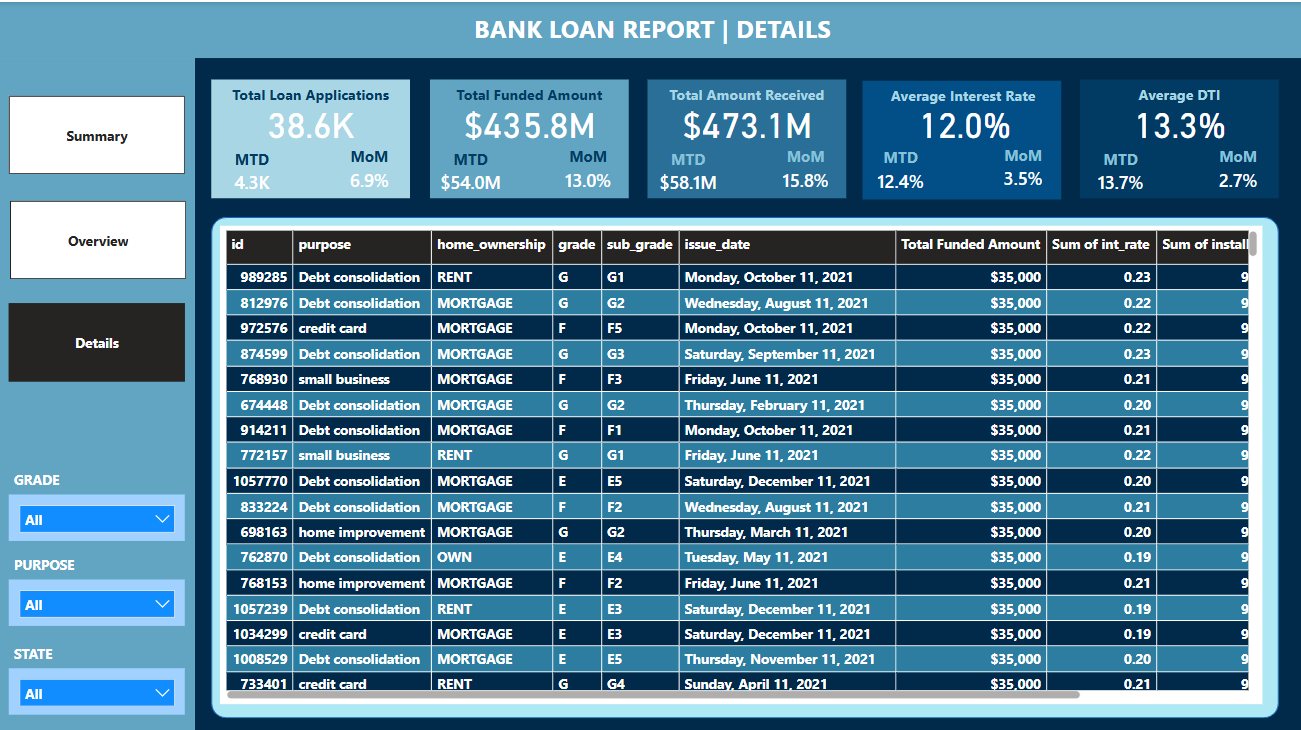

This screenshot's page, from the dashboard's own definition file:
{"tool":"powerbi","page":{"name":"Details","canvas":[1280,720],"ordinal":2},"visuals":[{"type":"shape","box":[207.4,76.1,195.1,116.6],"z":0,"group":"g1"},{"type":"shape","box":[422.1,76.1,195.1,116.6],"z":0,"group":"g2"},{"type":"shape","box":[635.6,76.1,195.1,116.6],"z":0,"group":"g3"},{"type":"shape","box":[1060.1,76.1,195.1,116.6],"z":0,"group":"g5"},{"type":"shape","box":[846.6,77.4,195.1,116.6],"z":0,"group":"g4"},{"type":"shape","box":[207.4,211,1047.9,492],"z":0},{"type":"shape","box":[0,55.2,191.4,665],"z":1000},{"type":"card","fields":{"Values":["financial_loan.Avg Interest Rate"]},"box":[866.4,93.2,162,50.3],"z":1000,"group":"g4"},{"type":"card","fields":{"Values":["financial_loan.Total Loan Applications"]},"box":[224.6,93.3,162,50.3],"z":1000,"group":"g1"},{"type":"card","fields":{"Values":["financial_loan.Total Funded Amount"]},"box":[439.3,93.3,162,50.3],"z":1000,"group":"g2"},{"type":"card","fields":{"Values":["financial_loan.Total Amount Received"]},"box":[652.8,93.3,162,50.3],"z":1000,"group":"g3"},{"type":"card","fields":{"Values":["financial_loan.Average DTI"]},"box":[1077.3,93.3,162,50.3],"z":1000,"group":"g5"},{"type":"shape","box":[0,0,1280.3,55],"z":2000},{"type":"textbox","box":[207.4,76.1,195.1,33.1],"z":2000,"group":"g1"},{"type":"textbox","box":[422.1,76.1,195.1,33.1],"z":2000,"group":"g2"},{"type":"textbox","box":[635.6,76.1,195.1,33.1],"z":2000,"group":"g3"},{"type":"textbox","box":[1060.1,76.1,195.1,33.1],"z":2000,"group":"g5"},{"type":"textbox","box":[848,77.3,195.1,33.1],"z":2000,"group":"g4"},{"type":"textbox","box":[433.1,4.9,414.7,44.2],"z":3000},{"type":"card","title":"MTD","fields":{"Values":["financial_loan.MTD Average Interest Rate"]},"box":[844.6,142,79.8,51.5],"z":3000,"group":"g4"},{"type":"card","title":"MTD","fields":{"Values":["financial_loan.MTD Loan Applications"]},"box":[207.4,143.6,79.8,51.5],"z":3000,"group":"g1"},{"type":"card","title":"MTD","fields":{"Values":["financial_loan.MTD Total Funded Amount"]},"box":[422.1,143.6,79.8,51.5],"z":3000,"group":"g2"},{"type":"card","title":"MTD","fields":{"Values":["financial_loan.MTD Total Amount Received"]},"box":[635.6,143.6,79.8,51.5],"z":3000,"group":"g3"},{"type":"card","title":"MTD","fields":{"Values":["financial_loan.MTD Average DTI"]},"box":[1060.1,143.6,79.8,51.5],"z":3000,"group":"g5"},{"type":"group","id":"g1","title":"Group 1","box":[207.4,76.1,195.1,119],"z":4000},{"type":"card","title":"MoM","fields":{"Values":["financial_loan.MOM Interest Rate"]},"box":[964.6,140.5,79.8,51.5],"z":4000,"group":"g4"},{"type":"card","title":"MoM","fields":{"Values":["financial_loan.MOM Loan Apllications"]},"box":[322.7,141.1,79.8,51.5],"z":4000,"group":"g1"},{"type":"card","title":"MoM","fields":{"Values":["financial_loan.MOM Funded Amount"]},"box":[537.4,141.1,79.8,51.5],"z":4000,"group":"g2"},{"type":"card","title":"MoM","fields":{"Values":["financial_loan.MOM AMount Received"]},"box":[750.9,141.1,79.8,51.5],"z":4000,"group":"g3"},{"type":"card","title":"MoM","fields":{"Values":["financial_loan.MOM Average DTI"]},"box":[1175.4,141.1,79.8,51.5],"z":4000,"group":"g5"},{"type":"group","id":"g2","title":"Group 1","box":[422.1,76.1,195.1,119],"z":5000},{"type":"group","id":"g3","title":"Group 1","box":[635.6,76.1,195.1,119],"z":6000},{"type":"group","id":"g4","title":"Group 1","box":[844.6,77.3,199.7,116.6],"z":7000},{"type":"group","id":"g5","title":"Group 1","box":[1060.1,76.1,195.1,119],"z":8000},{"type":"slicer","fields":{"Values":["financial_loan.address_state"]},"box":[8.6,654,173,45.4],"z":9000},{"type":"textbox","box":[8.6,625.8,100.6,28.2],"z":10000},{"type":"slicer","fields":{"Values":["financial_loan.purpose"]},"box":[8.6,566.9,173,45.4],"z":11000},{"type":"textbox","box":[8.6,455.2,100.6,28.2],"z":12000},{"type":"textbox","box":[8.6,538.7,100.6,28.2],"z":13000},{"type":"slicer","fields":{"Values":["financial_loan.sub_grade"]},"box":[8.6,483.4,173,45.4],"z":14000},{"type":"pageNavigator","box":[8.6,92,173,77.3],"z":17000},{"type":"pageNavigator","box":[8.6,295.7,173,77.3],"z":18000},{"type":"pageNavigator","box":[9.8,195.1,173,77.3],"z":19000},{"type":"tableEx","fields":{"Values":["financial_loan.id","financial_loan.purpose","financial_loan.home_ownership","financial_loan.grade","financial_loan.sub_grade","financial_loan.issue_date","financial_loan.Total Funded Amount","Sum(financial_loan.int_rate)","Sum(financial_loan.installment)","financial_loan.Total Amount Received"]},"box":[216,219.6,1023.3,469.9],"z":20000}]}

Visuals, with their boxes in screenshot pixels (x1, y1, x2, y2), scaled from the page's 1280x720 canvas onto the 1301x730 screenshot:
shape: locate(211, 77, 409, 195)
shape: locate(429, 77, 627, 195)
shape: locate(646, 77, 844, 195)
shape: locate(1077, 77, 1276, 195)
shape: locate(860, 78, 1059, 197)
shape: locate(211, 214, 1276, 713)
shape: locate(0, 56, 195, 729)
card - financial_loan.Avg Interest Rate: locate(881, 94, 1045, 145)
card - financial_loan.Total Loan Applications: locate(228, 95, 393, 146)
card - financial_loan.Total Funded Amount: locate(447, 95, 611, 146)
card - financial_loan.Total Amount Received: locate(664, 95, 828, 146)
card - financial_loan.Average DTI: locate(1095, 95, 1260, 146)
shape: locate(0, 0, 1300, 56)
textbox: locate(211, 77, 409, 111)
textbox: locate(429, 77, 627, 111)
textbox: locate(646, 77, 844, 111)
textbox: locate(1077, 77, 1276, 111)
textbox: locate(862, 78, 1060, 112)
textbox: locate(440, 5, 862, 50)
"MTD" card: locate(858, 144, 940, 196)
"MTD" card: locate(211, 146, 292, 198)
"MTD" card: locate(429, 146, 510, 198)
"MTD" card: locate(646, 146, 727, 198)
"MTD" card: locate(1077, 146, 1159, 198)
"Group 1" group: locate(211, 77, 409, 198)
"MoM" card: locate(980, 142, 1062, 195)
"MoM" card: locate(328, 143, 409, 195)
"MoM" card: locate(546, 143, 627, 195)
"MoM" card: locate(763, 143, 844, 195)
"MoM" card: locate(1195, 143, 1276, 195)
"Group 1" group: locate(429, 77, 627, 198)
"Group 1" group: locate(646, 77, 844, 198)
"Group 1" group: locate(858, 78, 1061, 197)
"Group 1" group: locate(1077, 77, 1276, 198)
slicer - financial_loan.address_state: locate(9, 663, 185, 709)
textbox: locate(9, 634, 111, 663)
slicer - financial_loan.purpose: locate(9, 575, 185, 621)
textbox: locate(9, 462, 111, 490)
textbox: locate(9, 546, 111, 575)
slicer - financial_loan.sub_grade: locate(9, 490, 185, 536)
pageNavigator: locate(9, 93, 185, 172)
pageNavigator: locate(9, 300, 185, 378)
pageNavigator: locate(10, 198, 186, 276)
tableEx - financial_loan.id x financial_loan.purpose: locate(220, 223, 1260, 699)
